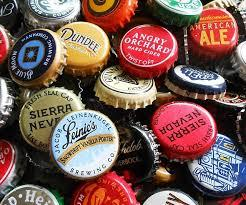Aluminum caps: (0, 0, 245, 203)
